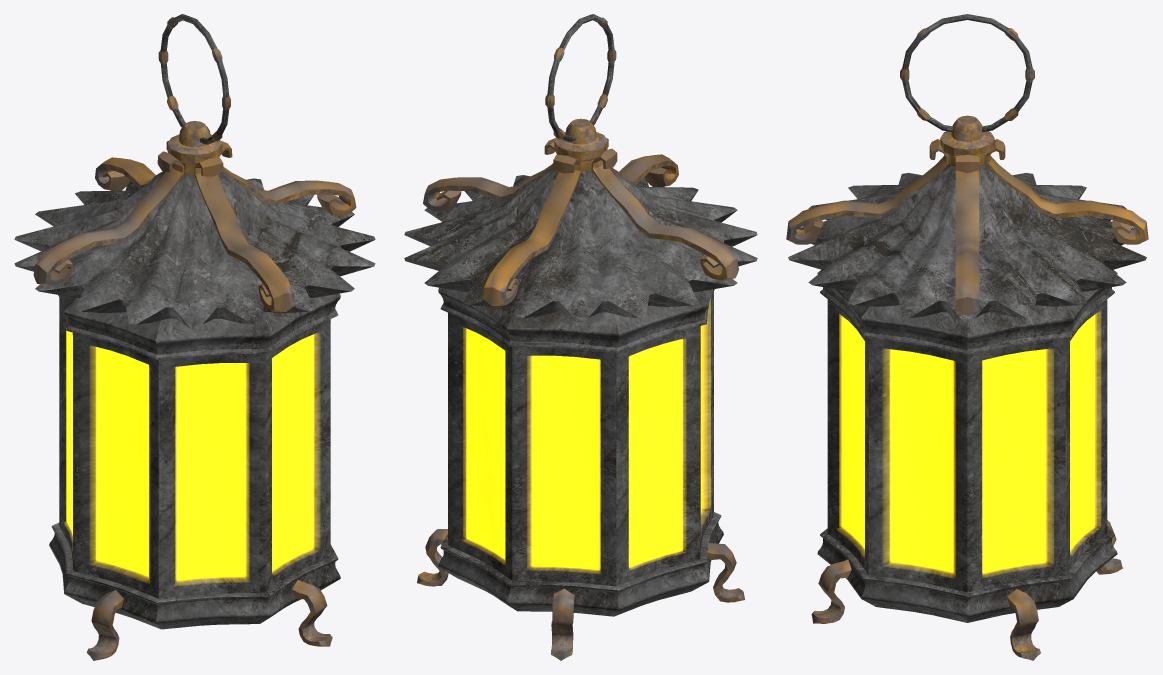
The picture shows the model from 3 angles, left to right: view 1: azimuth 30°, elevation 25°; view 2: azimuth 150°, elevation 25°; view 3: azimuth 270°, elevation 25°; orthographic projection. The views are drawn at different scales.
Parts seen in each view (by area): view 1: body, roof, pCube1 (×4), up_cover, down_cover, pCube2 (×2), handle_part_2, handle_part_1; view 2: body, roof, pCube1 (×4), up_cover, down_cover, pCube2 (×3), handle_part_2, handle_part_1; view 3: body, roof, pCube1 (×3), up_cover, down_cover, pCube2 (×2), handle_part_2, handle_part_1.
Part boxes in pixels (bbox=[...]): body: bbox=[59, 298, 330, 598]; roof: bbox=[14, 171, 375, 328]; pCube1 (×4): bbox=[33, 140, 356, 312]; up_cover: bbox=[58, 293, 340, 359]; down_cover: bbox=[49, 522, 340, 629]; pCube2 (×2): bbox=[86, 580, 332, 660]; handle_part_2: bbox=[158, 14, 230, 144]; handle_part_1: bbox=[167, 121, 222, 174]; body: bbox=[448, 291, 713, 586]; roof: bbox=[404, 168, 757, 322]; pCube1 (×4): bbox=[423, 138, 738, 306]; up_cover: bbox=[438, 287, 714, 352]; down_cover: bbox=[438, 512, 723, 616]; pCube2 (×3): bbox=[417, 529, 744, 660]; handle_part_2: bbox=[545, 14, 616, 142]; handle_part_1: bbox=[554, 118, 607, 171]; body: bbox=[827, 299, 1107, 592]; roof: bbox=[788, 163, 1146, 322]; pCube1 (×3): bbox=[786, 139, 1148, 315]; up_cover: bbox=[817, 269, 1117, 355]; down_cover: bbox=[817, 528, 1117, 622]; pCube2 (×2): bbox=[811, 559, 1040, 660]; handle_part_2: bbox=[900, 14, 1034, 131]; handle_part_1: bbox=[940, 115, 994, 167].
Bounding box in the file's own units: 0.0572 × 0.1015 × 0.0571.
1 material, 1 textured.
